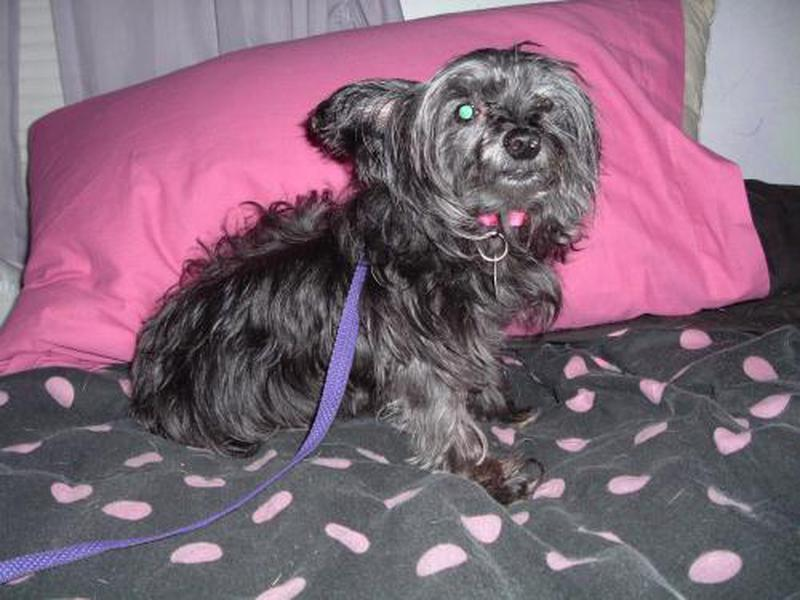dog: (129, 45, 608, 506)
